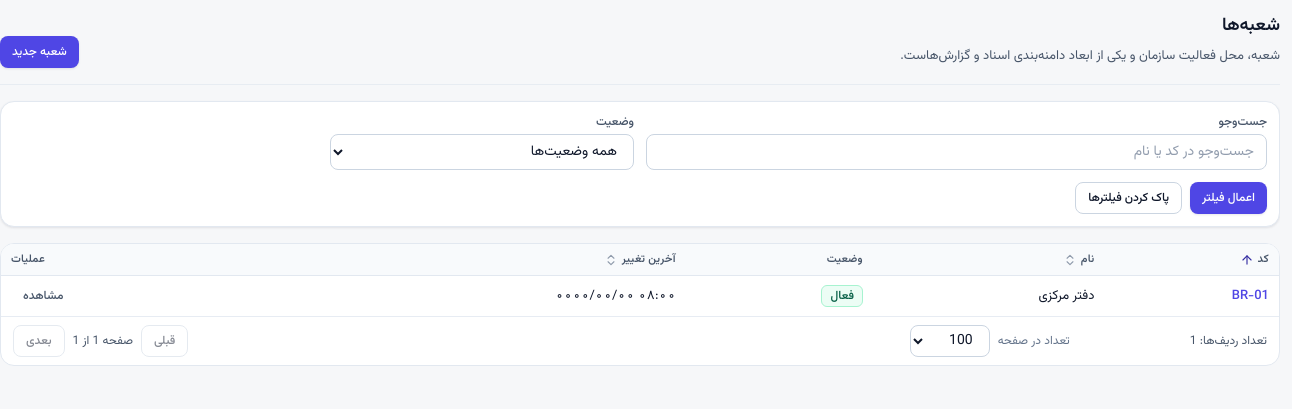
Test: branch list › sorts on the server through the URL, using only allow-listed fields
Expected: the text "دفتر مرکزی" is shown, [873,276,1104,316]
Click the button "نام".
click(1079, 260)  # box [1063,250,1094,269]
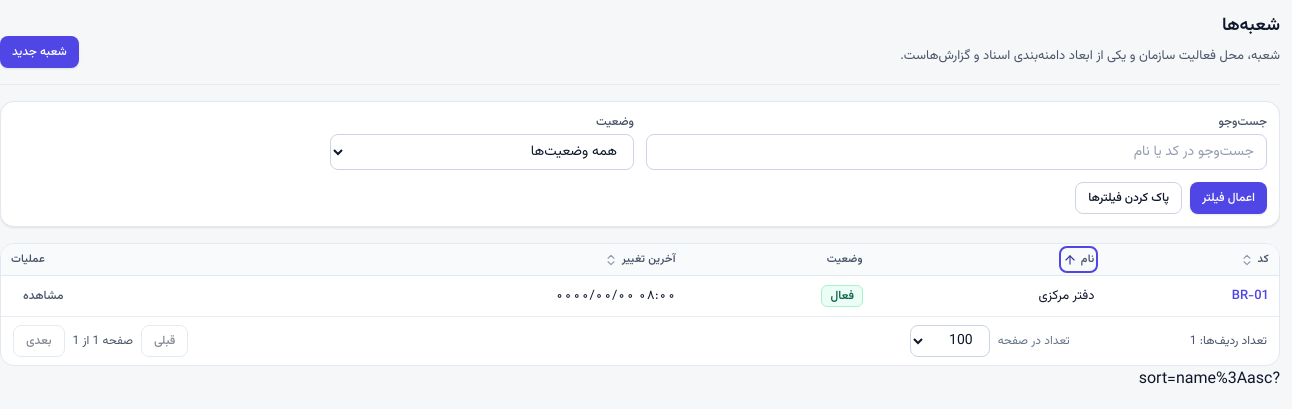
Result: the text named "location-search" shows "sort=name%3Aasc" at [1139,367,1280,392]
